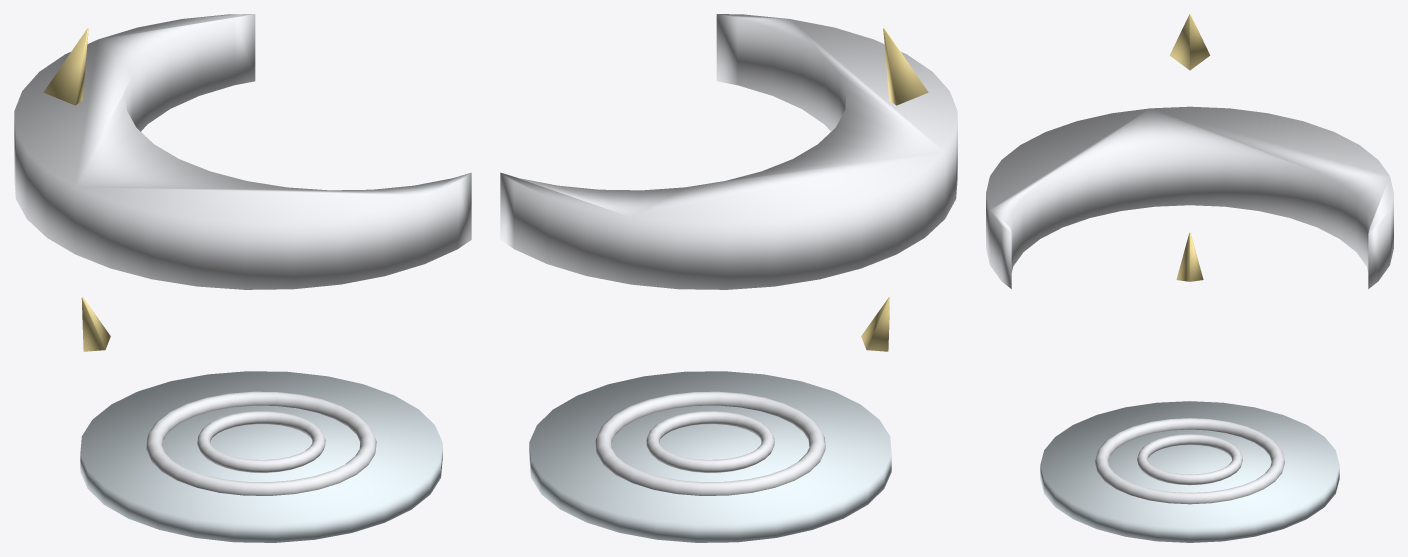
File: moon.glb
3 renders of one model, left to right at view 1: azimuth 30°, elevation 25°; view 2: azimuth 150°, elevation 25°; view 3: azimuth 270°, elevation 25°, orthographic. The views are drawn at different scales.
Parts seen in each view (by area): view 1: Disc, Pool, Ripple1, Ripple2, Star1, Star2; view 2: Disc, Pool, Ripple1, Ripple2, Star1, Star2; view 3: Disc, Pool, Ripple1, Ripple2, Star1, Star2.
Part boxes in pixels (box(x1,y1,x2,y2)): Disc: box(14, 14, 471, 289); Pool: box(80, 371, 442, 542); Ripple1: box(146, 391, 376, 495); Ripple2: box(197, 411, 325, 472); Star1: box(43, 28, 88, 105); Star2: box(81, 297, 110, 351); Disc: box(500, 14, 957, 289); Pool: box(529, 371, 891, 542); Ripple1: box(595, 391, 825, 495); Ripple2: box(646, 411, 774, 472); Star1: box(883, 28, 928, 105); Star2: box(861, 297, 890, 351); Disc: box(986, 106, 1393, 288); Pool: box(1040, 401, 1339, 542); Ripple1: box(1095, 418, 1284, 504); Ripple2: box(1137, 434, 1242, 485); Star1: box(1169, 14, 1210, 70); Star2: box(1176, 233, 1203, 281).
Bounding box in the file's own units: 0.5252 × 0.6423 × 0.6.
